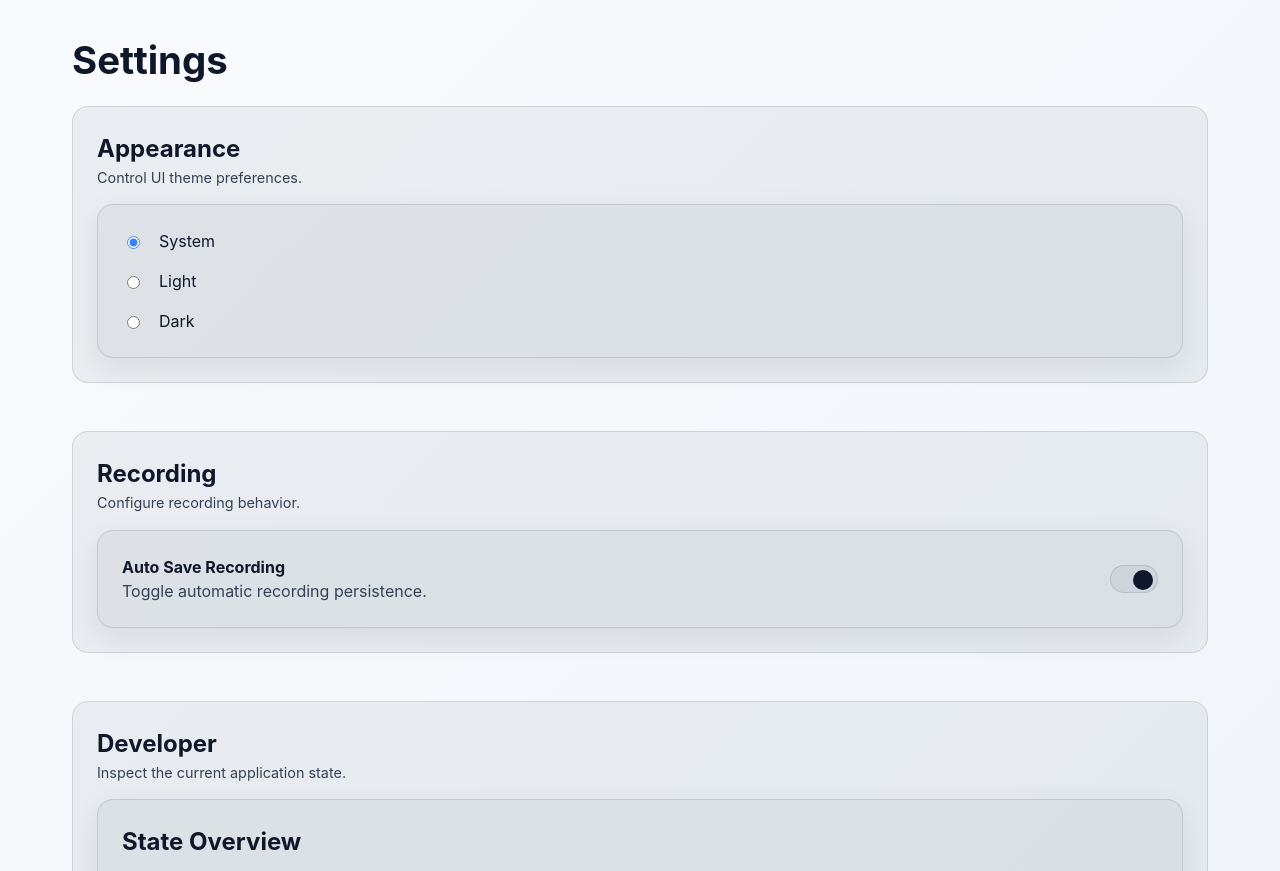
Test: SettingsPage › resets settings to defaults
The image size is (1280, 871).
Click the radio button labelled "Dark".
click(134, 323)  # box [127,316,140,329]
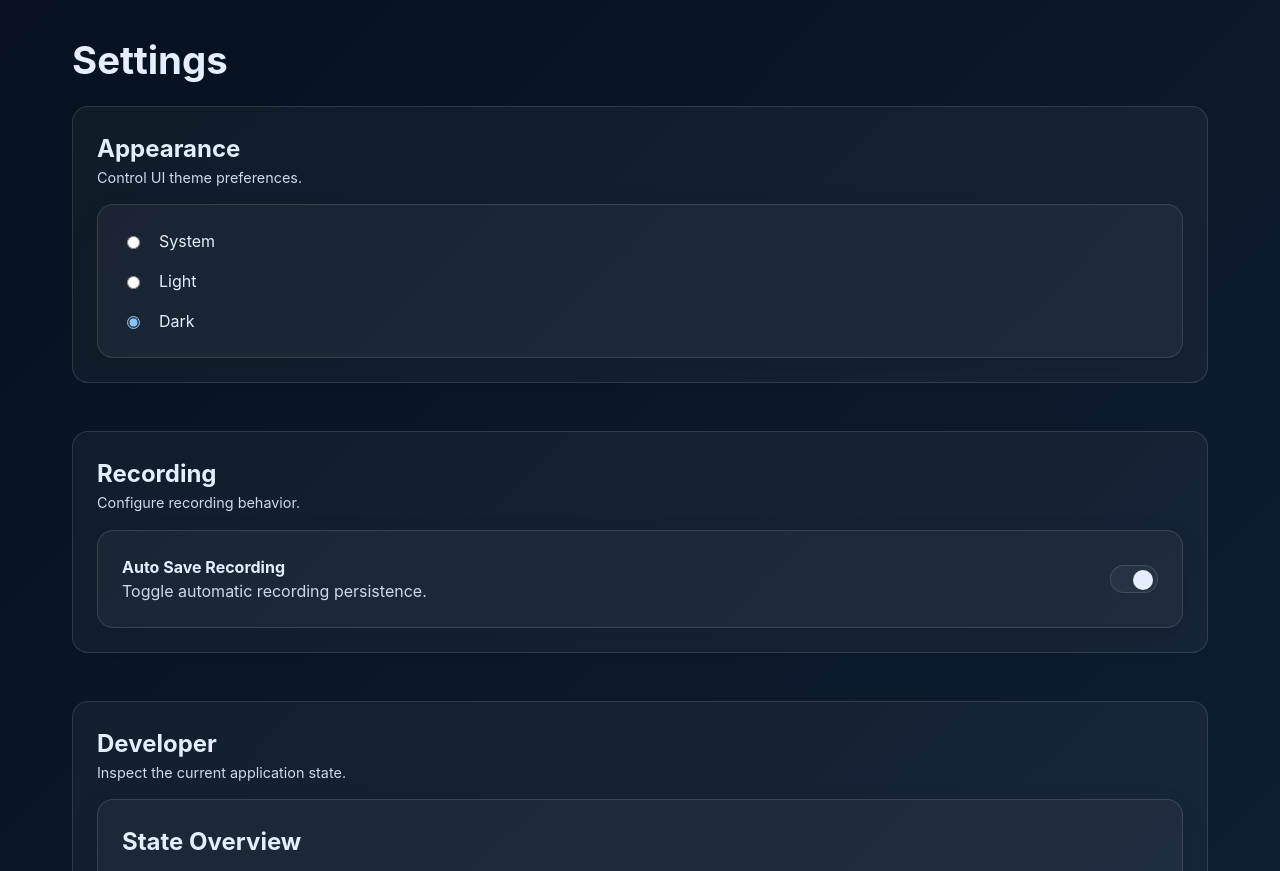
Click the switch.
click(1134, 579)  # box [1110,565,1158,593]
(page scrolled)
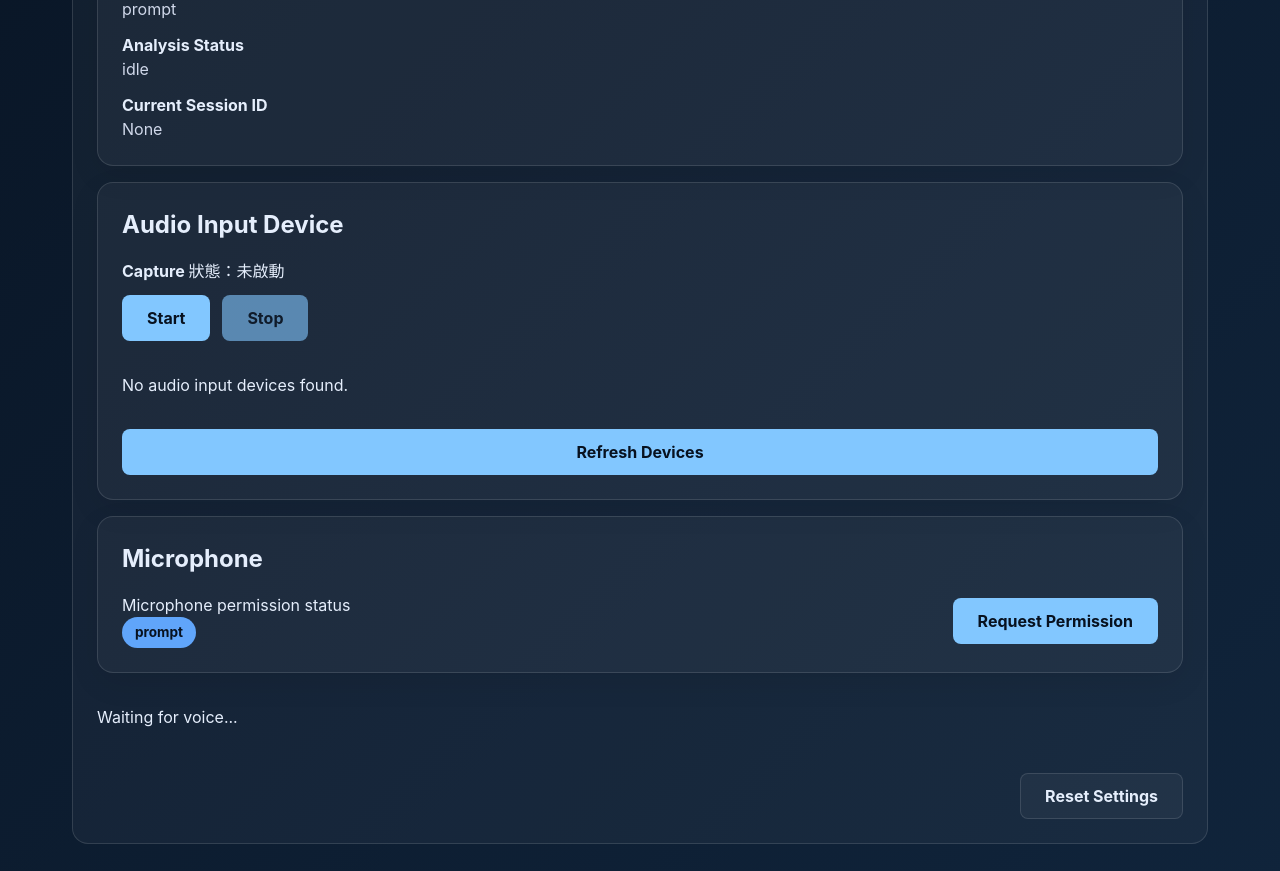
Click the button "Reset Settings".
click(1102, 796)  # box [1020,773,1183,819]
(page scrolled)
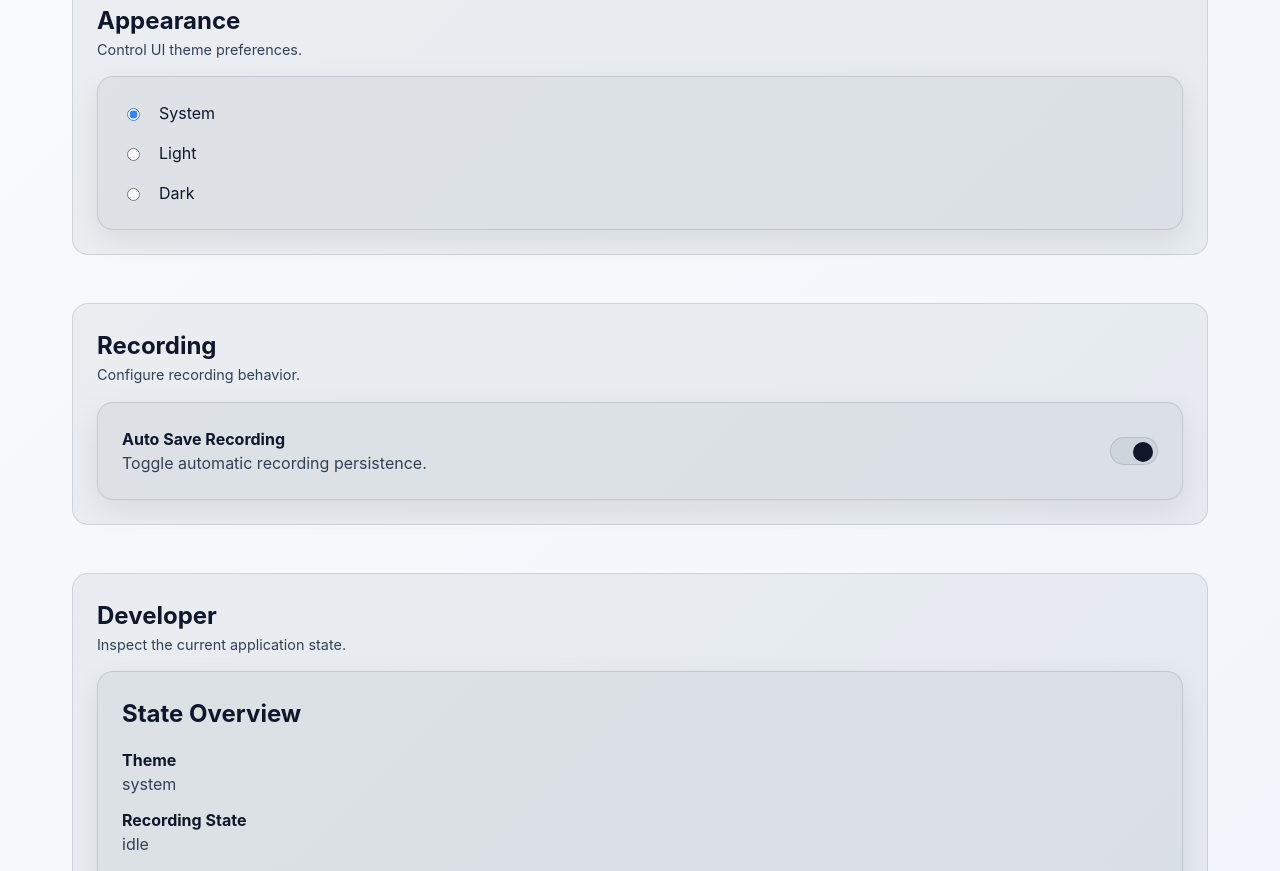
Expected: the radio button labelled "System" is checked, [127,108,140,121]
